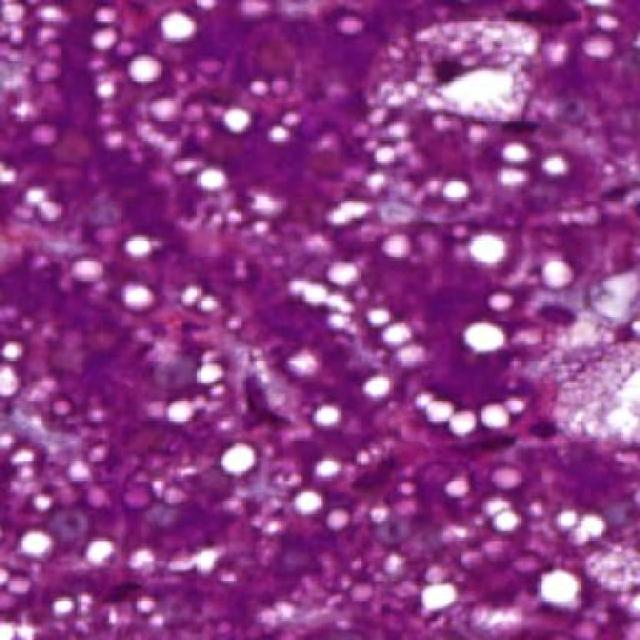ballooning: (368, 19, 542, 134), (541, 272, 634, 455)
